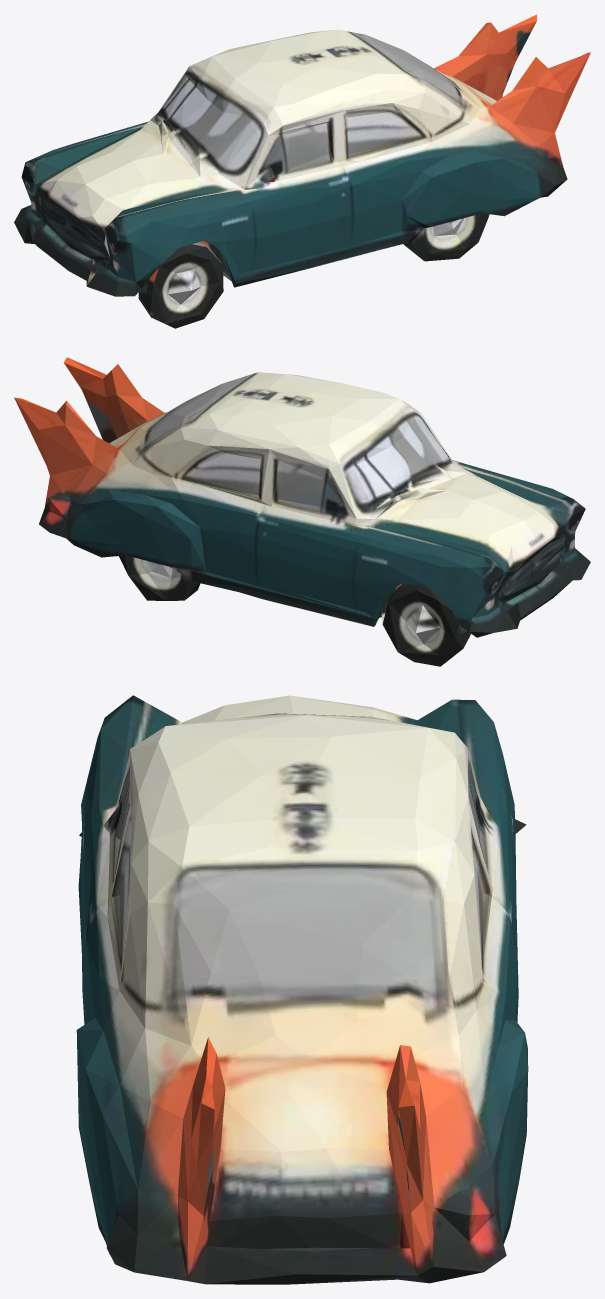
The model's file is vehicle.glb.
3 views of the same model, one above another, from view 1: azimuth 30°, elevation 25°; view 2: azimuth 150°, elevation 25°; view 3: azimuth 270°, elevation 25° (orthographic). The views are drawn at different scales.
Parts seen in each view (by area): view 1: figure; view 2: figure; view 3: figure.
Part boxes in pixels (x1,y1,x2,y2): figure: (14,14,590,328); figure: (14,357,590,666); figure: (76,695,528,1284).
Bounding box in the file's own units: 2.78 × 1 × 1.07.
1 material, 1 textured.
